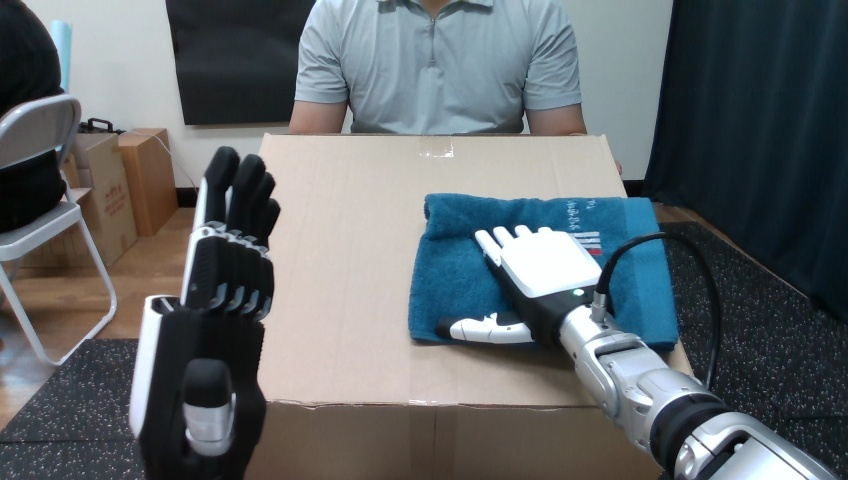left robot hand: (129, 147, 279, 478), (659, 221, 847, 479)
